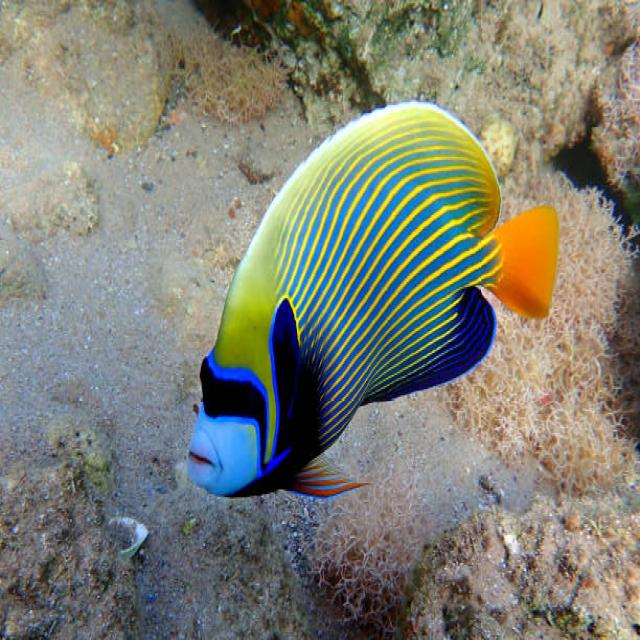AngelFish: (185, 99, 562, 502)
